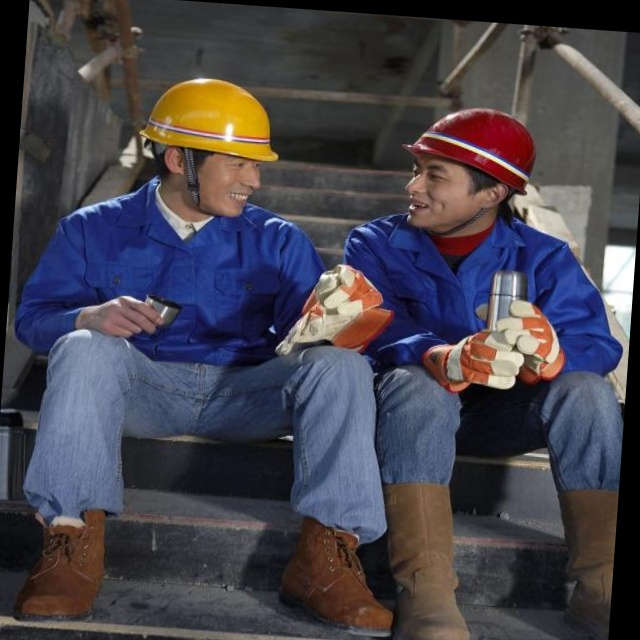Con_Casco: (139, 75, 287, 218), (402, 104, 541, 234)
